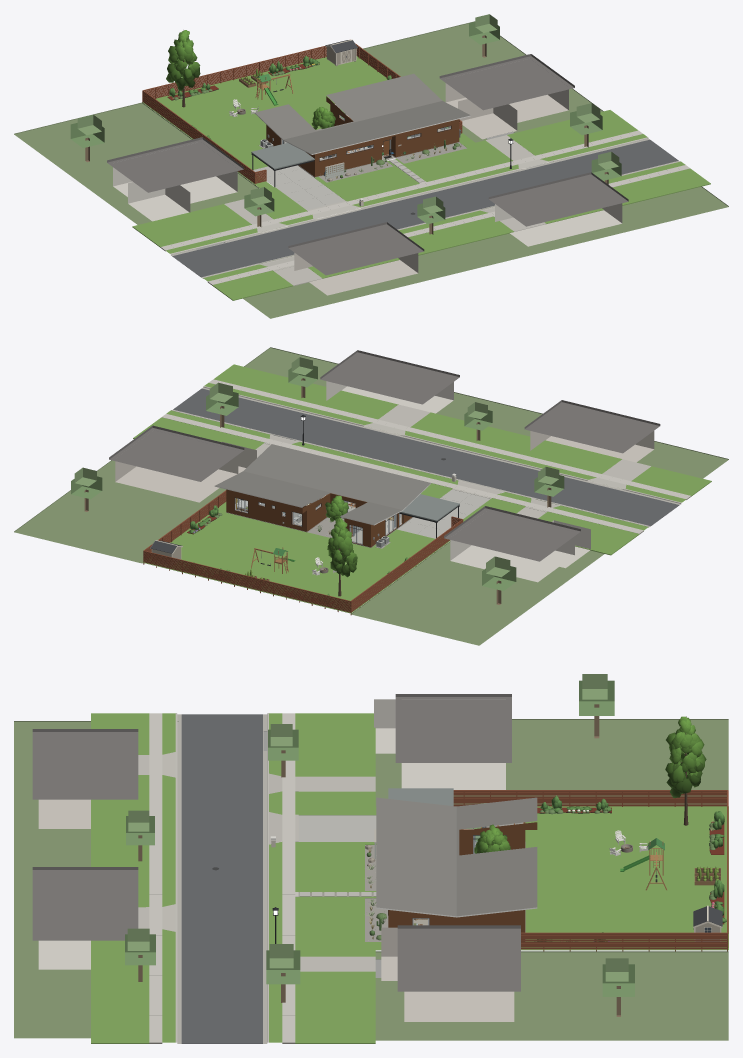
File: midwest_modern_house.glb
3 renders of one model, top to bottom at view 1: azimuth 30°, elevation 25°; view 2: azimuth 150°, elevation 25°; view 3: azimuth 270°, elevation 25°, orthographic. The views are drawn at different scales.
Parts seen in each view (by area): view 1: ground_hy_lawn, ground_hy_usasph2, Ctx_Lawn_South, ground_hy_lawn.002, Ctx_Lawn_West, hroof_hx_us_gravel, Ctx_Lawn_East, Ctx_EastHouse_Roof, Ctx_WestHouse_Roof, Ctx_SouthEast_Roof, Ctx_SouthWest_Roof, ground_hy_uswalk (+18 smaller); view 2: ground_hy_lawn, ground_hy_usasph2, Ctx_Lawn_West, ground_hy_lawn.002, Ctx_Lawn_East, hroof_hx_us_gravel, Ctx_Lawn_South, ground_hy_uswalk, Ctx_EastHouse_Roof, Ctx_WestHouse_Roof, Ctx_SouthEast_Roof, Ctx_SouthWest_Roof (+18 smaller); view 3: ground_hy_lawn, ground_hy_usasph2, ground_hy_lawn.002, Ctx_Lawn_East, hroof_hx_us_gravel, Ctx_Lawn_West, Ctx_Lawn_South, Ctx_EastHouse_Roof, Ctx_WestHouse_Roof, Ctx_SouthEast_Roof, ground_hy_uswalk, Ctx_SouthWest_Roof (+27 smaller).
Boxes of the visible parts, x1,y1,x2,y2 form: ground_hy_lawn: (132,110,710,300); ground_hy_usasph2: (172,139,678,277); Ctx_Lawn_South: (243,186,728,318); ground_hy_lawn.002: (142,56,387,151); Ctx_Lawn_West: (14,102,258,224); hroof_hx_us_gravel: (255,73,470,154); Ctx_Lawn_East: (363,21,603,142); Ctx_EastHouse_Roof: (439,54,574,110); Ctx_WestHouse_Roof: (107,137,243,192); Ctx_SouthEast_Roof: (488,172,628,226); Ctx_SouthWest_Roof: (288,222,424,275); ground_hy_uswalk: (161,130,690,284); ground_hy_lawn: (133,364,711,560); ground_hy_usasph2: (173,388,679,525); Ctx_Lawn_West: (351,499,604,645); ground_hy_lawn.002: (143,511,422,613); Ctx_Lawn_East: (14,440,295,563); hroof_hx_us_gravel: (215,444,430,524); Ctx_Lawn_South: (244,347,728,478); ground_hy_uswalk: (162,379,690,533); Ctx_EastHouse_Roof: (109,425,244,481); Ctx_WestHouse_Roof: (444,506,580,561); Ctx_SouthEast_Roof: (320,350,459,404); Ctx_SouthWest_Roof: (524,400,660,453); ground_hy_lawn: (91,713,525,1043); ground_hy_usasph2: (181,714,262,1043); ground_hy_lawn.002: (525,806,728,950); Ctx_Lawn_East: (375,951,728,1040); hroof_hx_us_gravel: (376,797,537,916); Ctx_Lawn_West: (270,719,728,805); Ctx_Lawn_South: (14,721,178,1038); Ctx_EastHouse_Roof: (397,925,520,991); Ctx_WestHouse_Roof: (395,694,511,762); Ctx_SouthEast_Roof: (32,867,138,940); ground_hy_uswalk: (149,713,298,1042); Ctx_SouthWest_Roof: (32,729,138,799).
Size of the model in its own units: 70.89 by 11.24 by 65.02.
